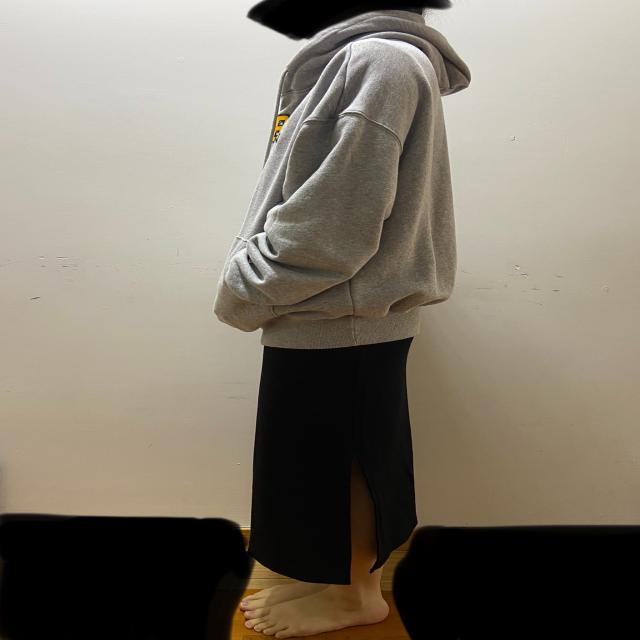hoodies: (208, 2, 471, 348)
skirt: (249, 333, 415, 585)
